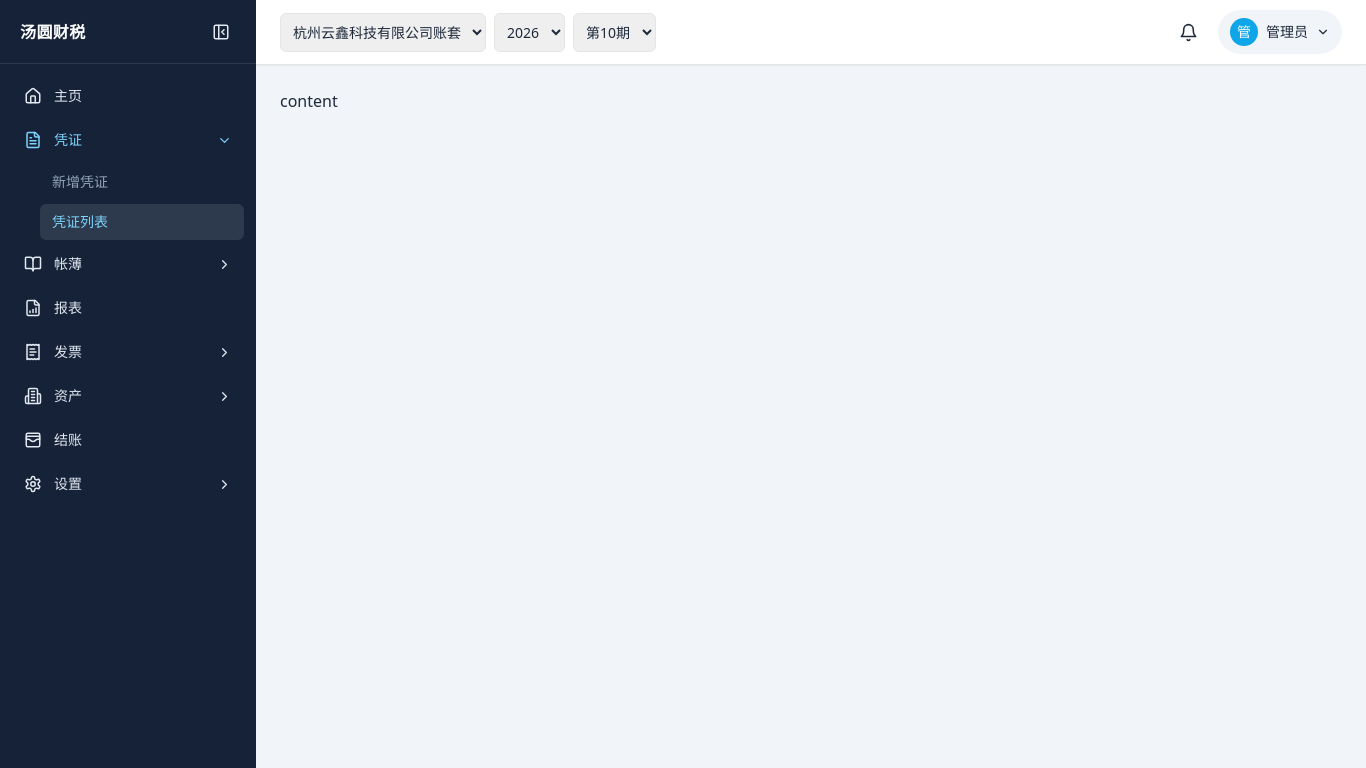
Test: FinanceShell menu highlight › uses accordion behavior for manual toggles
Click the button "设置" at {"x": 128, "y": 484}, box [12, 464, 244, 504]
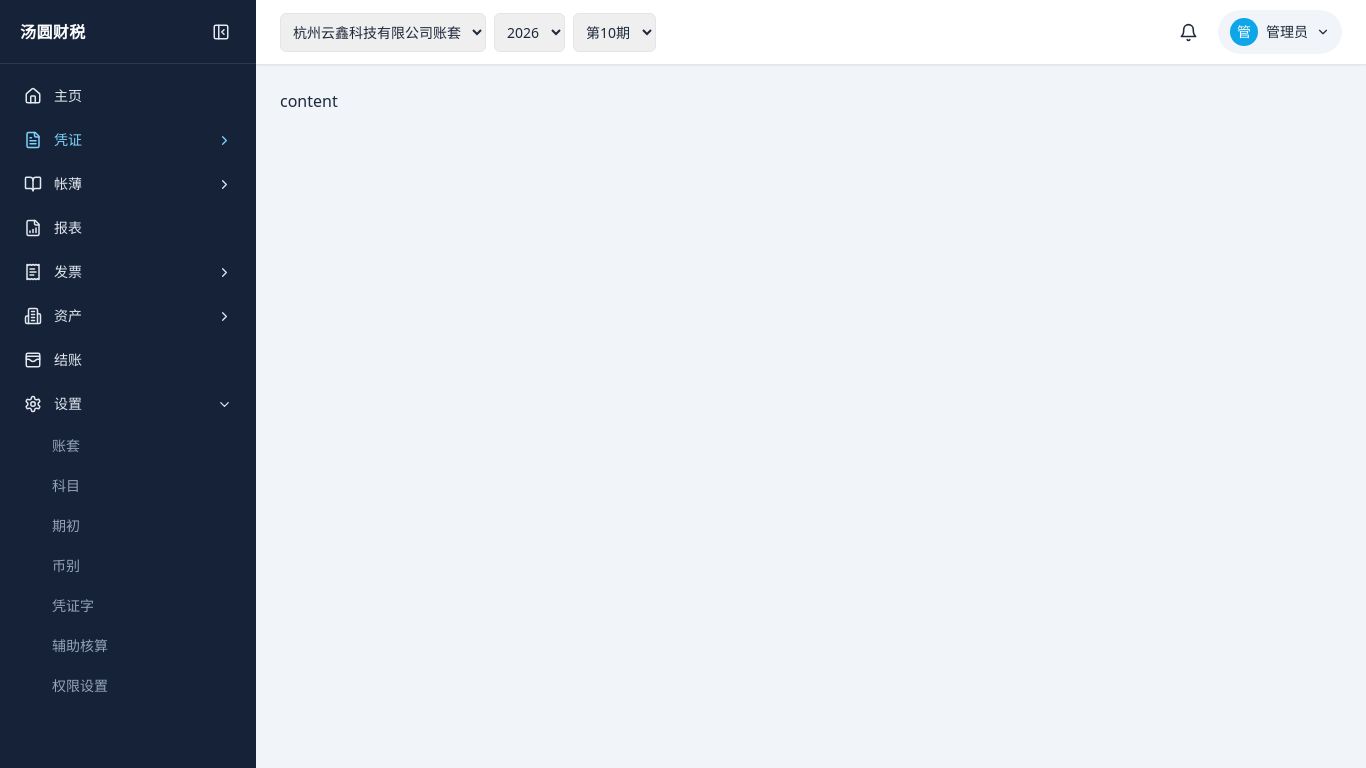
Expected: the link "账套" is shown, [52, 436, 80, 455]
Expected: the link "凭证列表" is gone
